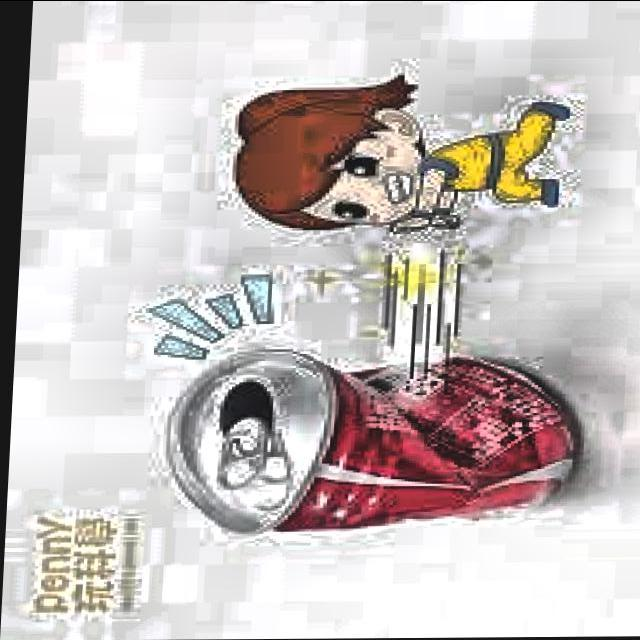litter: (152, 343, 593, 542)
